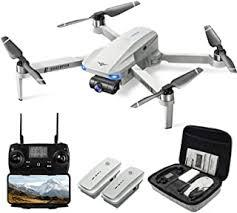drone: (0, 0, 237, 133)
